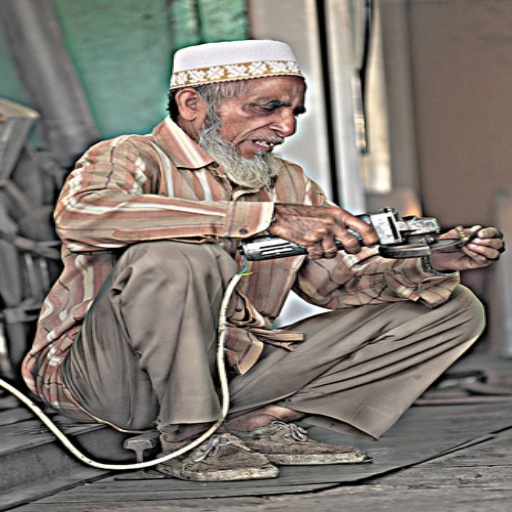hand: (273, 196, 392, 260), (428, 223, 510, 272)
